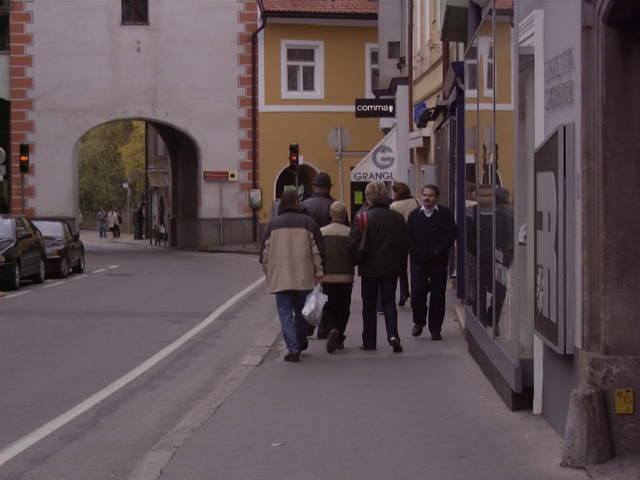person: (258, 187, 325, 358), (349, 176, 408, 353), (398, 175, 460, 338), (312, 197, 356, 355)
